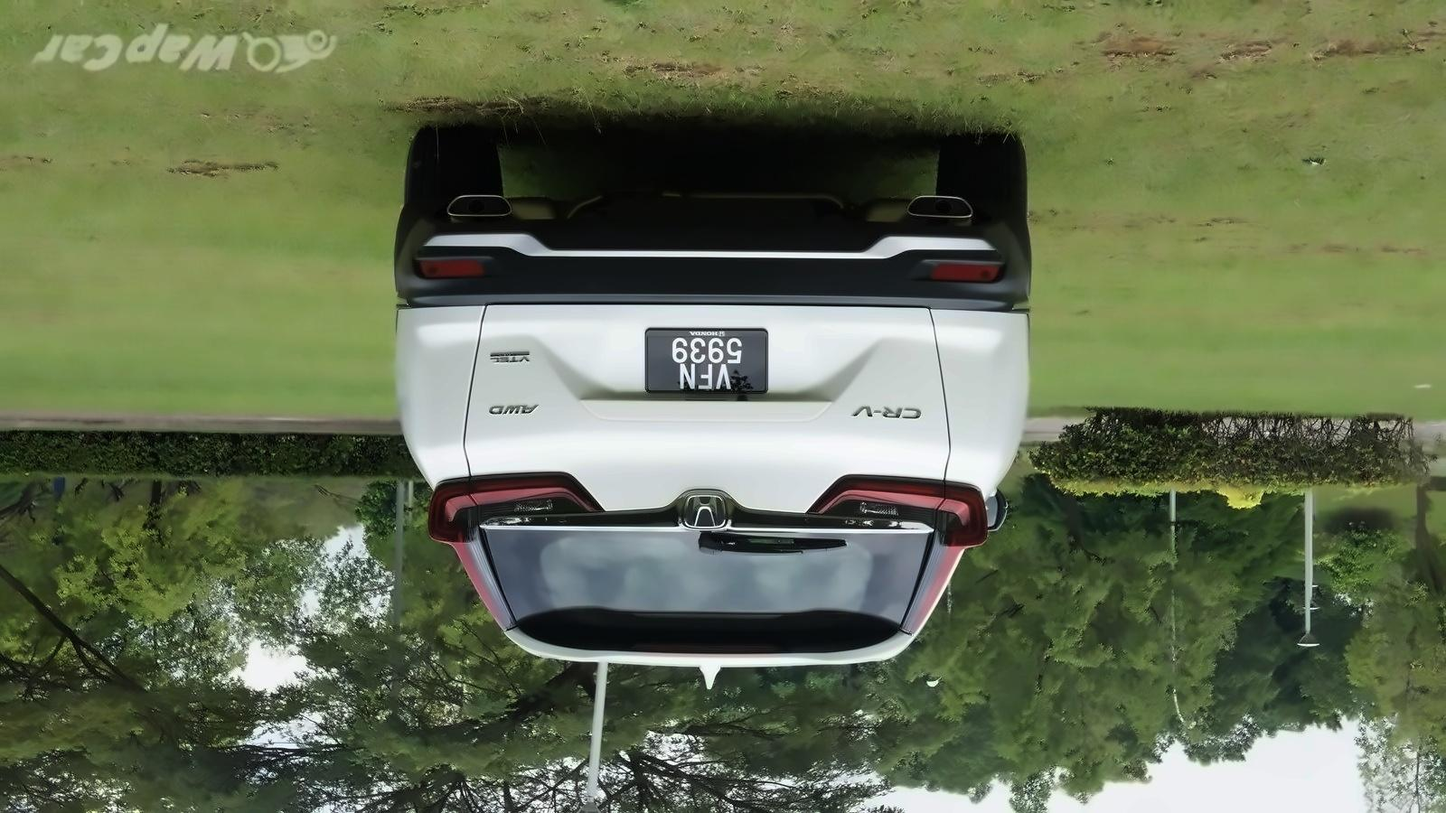Car boot: (464, 300, 952, 541)
Rear bumper: (378, 180, 1042, 325)
Rear light - -L-: (806, 475, 974, 538)
Rear light - -R-: (421, 466, 606, 546)
